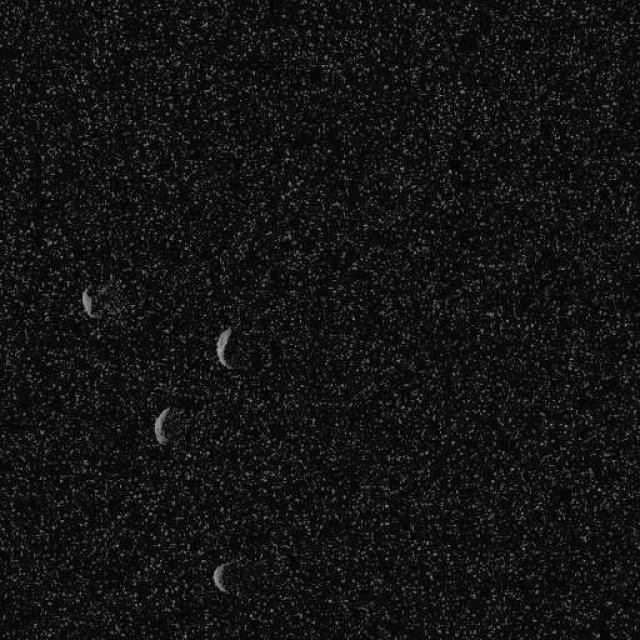D2: (214, 324, 271, 371), (214, 325, 234, 369), (152, 404, 172, 445), (211, 560, 231, 594), (80, 286, 98, 319)
